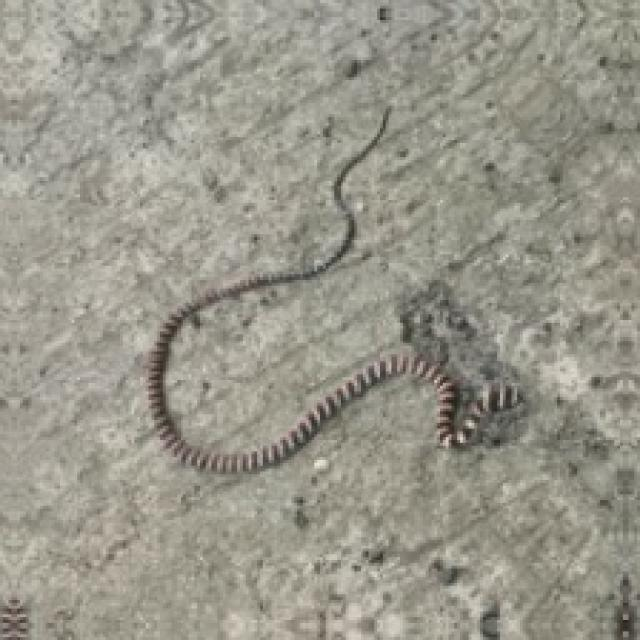paradise tree snake: (146, 109, 517, 471)
